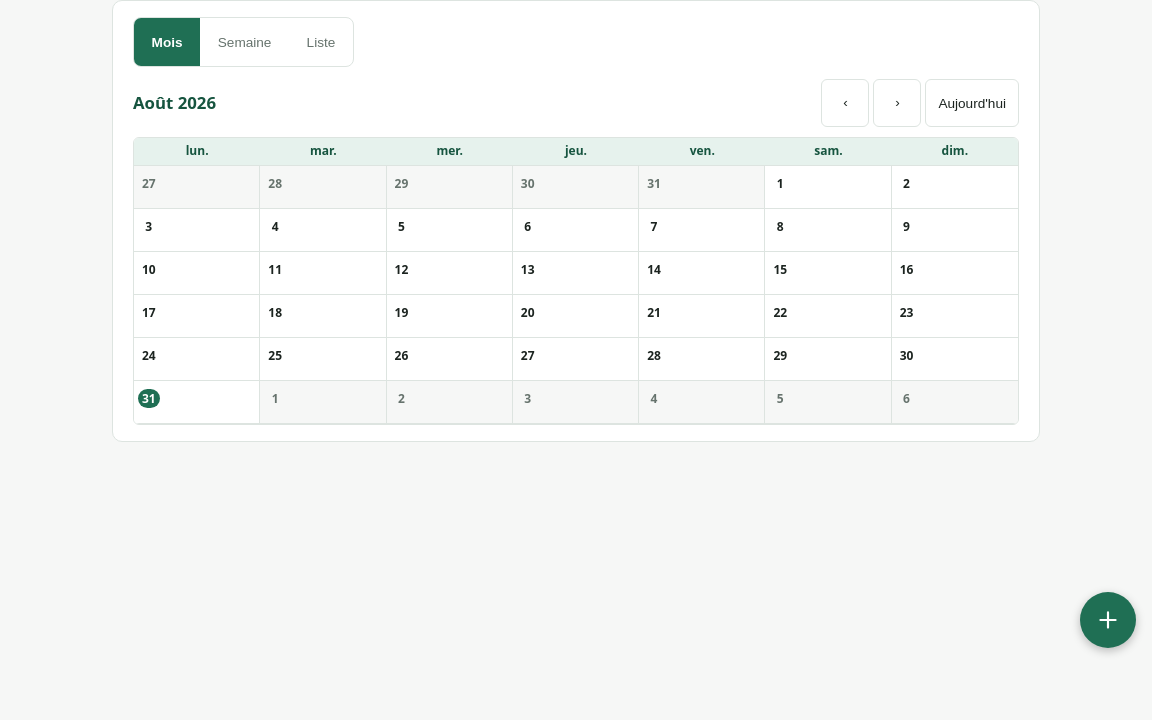
Scenario: formulaire de réservation › ouvre le formulaire pré-rempli en cliquant sur un jour du calendrier
The width and height of the screenshot is (1152, 720).
Expected: the button named "Réserver un créneau" is shown, [1080, 592, 1136, 648]
Click the 6th element with class "cal-cell".
click(829, 188)  # box [765, 166, 892, 209]
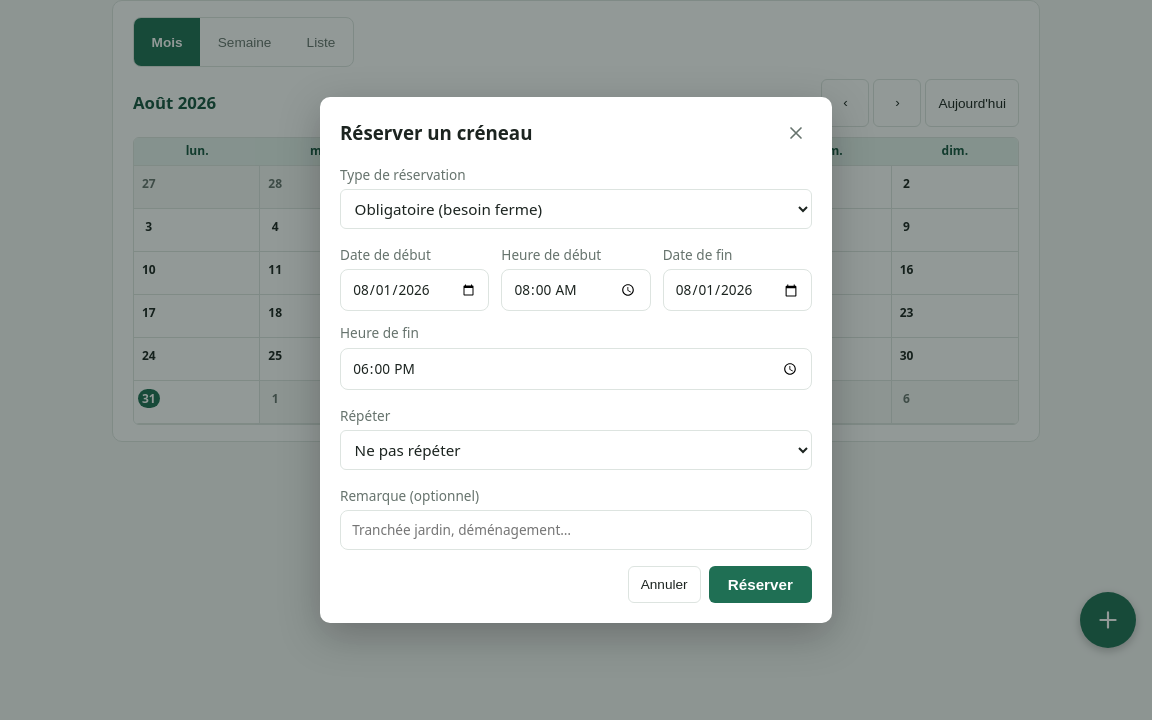
Expected: the button "Réserver" is shown, [709, 566, 812, 603]
